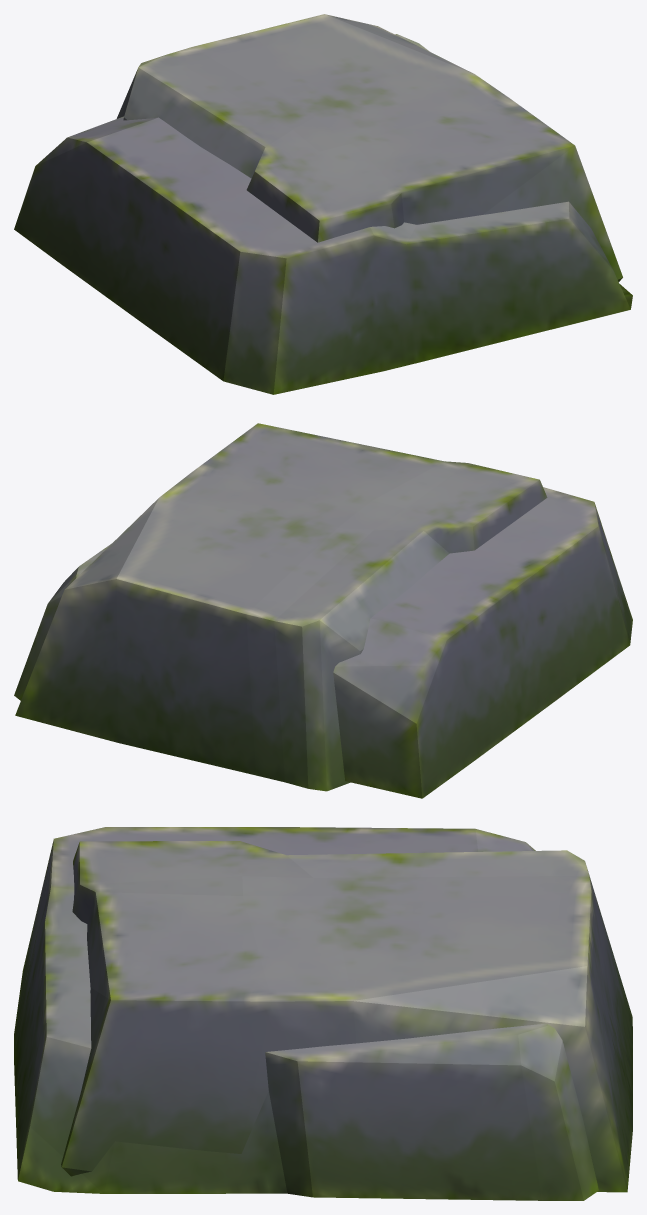
File: slabs.glb
3 renders of one model, top to bottom at view 1: azimuth 30°, elevation 25°; view 2: azimuth 150°, elevation 25°; view 3: azimuth 270°, elevation 25°, orthographic. The views are drawn at different scales.
Parts seen in each view (by area): view 1: Pebble_Square_1, Pebble_Square_5; view 2: Pebble_Square_5, Pebble_Square_1; view 3: Pebble_Square_5, Pebble_Square_1.
Boxes of the visible parts, x1,y1,x2,y2 form: Pebble_Square_1: (14, 34, 632, 394); Pebble_Square_5: (116, 14, 622, 281); Pebble_Square_5: (15, 423, 547, 791); Pebble_Square_1: (14, 487, 632, 798); Pebble_Square_5: (61, 841, 632, 1192); Pebble_Square_1: (14, 827, 598, 1200).
Bounding box in the file's own units: 0.4346 × 0.1522 × 0.4653.
1 material, 1 textured.
